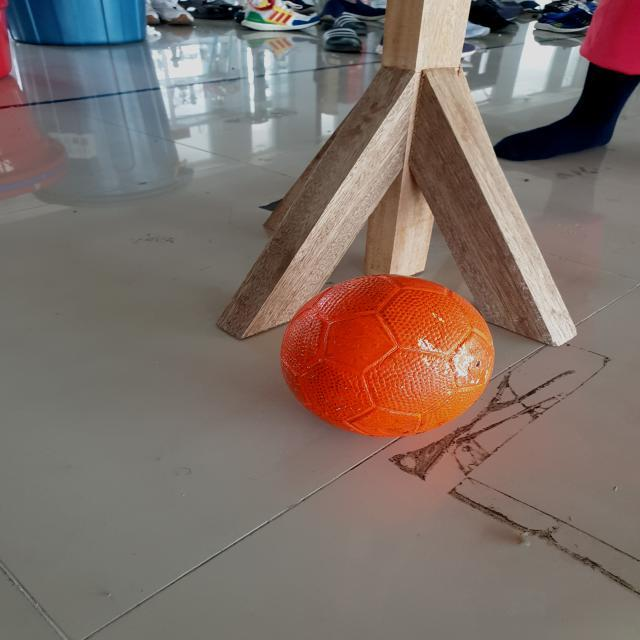bola: (250, 240, 514, 450)
